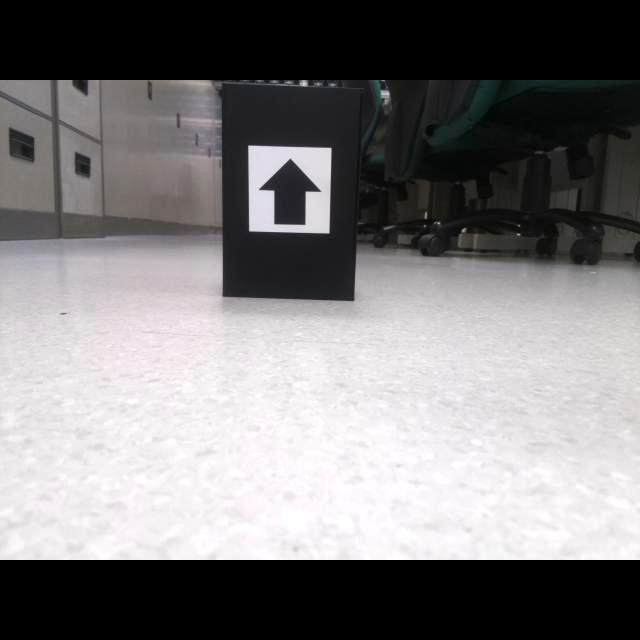UP: (257, 157, 324, 226)
